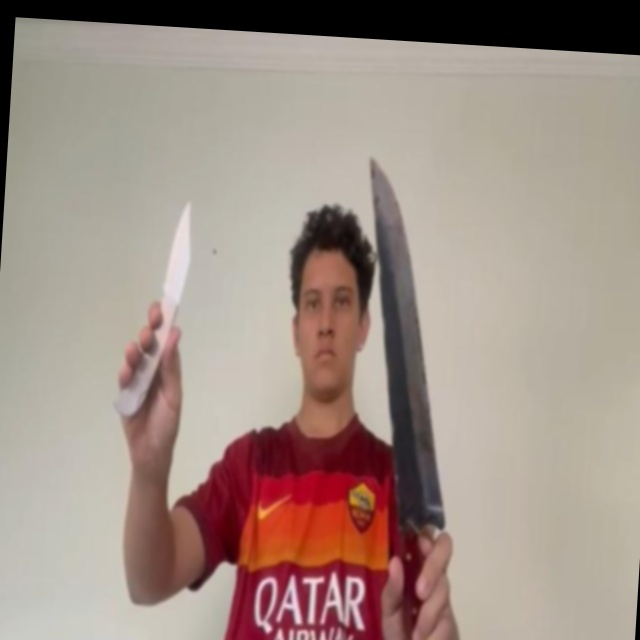Sharp-Object: (346, 156, 468, 536), (161, 200, 194, 299)
